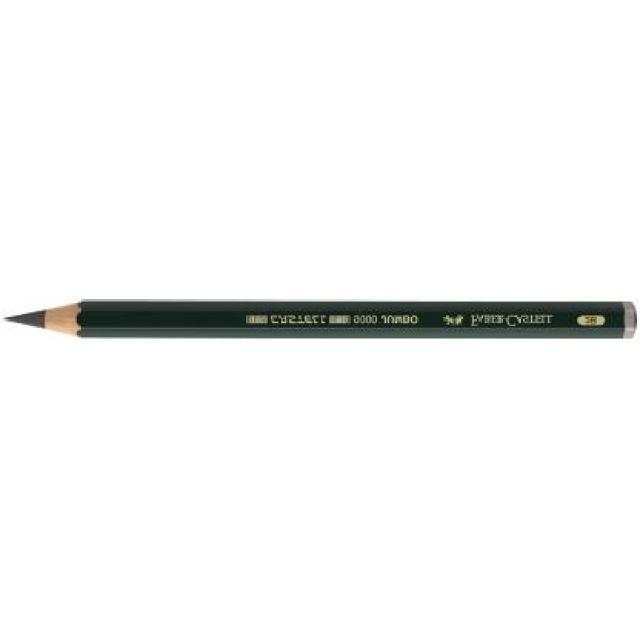pencil: (0, 292, 104, 348)
